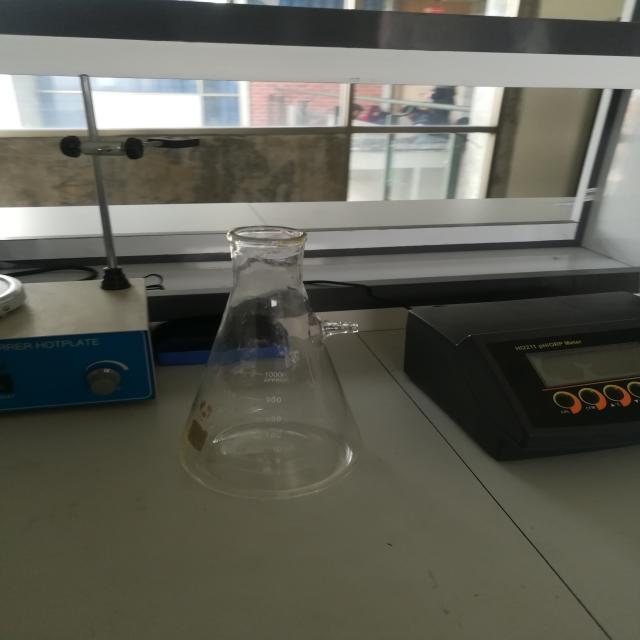Conical_Flask: (118, 197, 432, 519)
